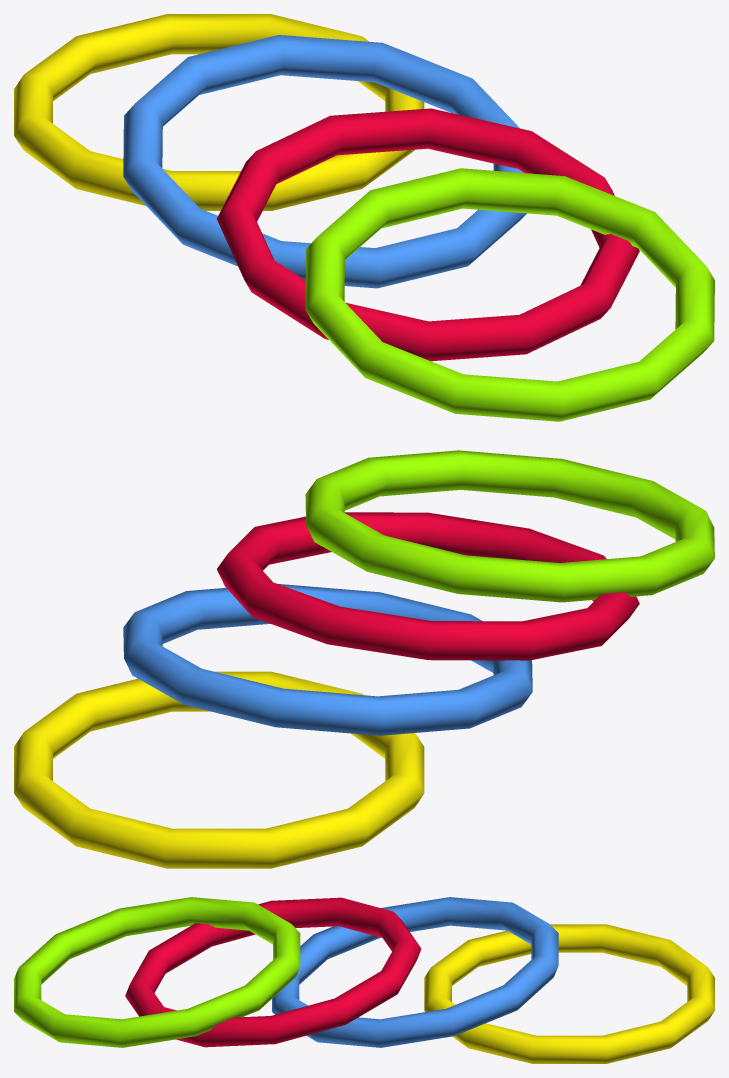
The model's file is Prize_Mall_Glowsticks.FBX.
The picture shows the model from 3 angles, top to bottom: view 1: azimuth 30°, elevation 25°; view 2: azimuth 150°, elevation 25°; view 3: azimuth 270°, elevation 25°; orthographic projection. The views are drawn at different scales.
Visible parts, largest first — view 1: Baytek_Mall_Glowsticks_Round; view 2: Baytek_Mall_Glowsticks_Round; view 3: Baytek_Mall_Glowsticks_Round.
Part boxes in pixels (box(x1,y1,x2,y2)): Baytek_Mall_Glowsticks_Round: box(14, 14, 714, 421); Baytek_Mall_Glowsticks_Round: box(14, 450, 714, 868); Baytek_Mall_Glowsticks_Round: box(14, 897, 714, 1063).
Size of the model in its own units: 7.86 by 1.94 by 18.31.
